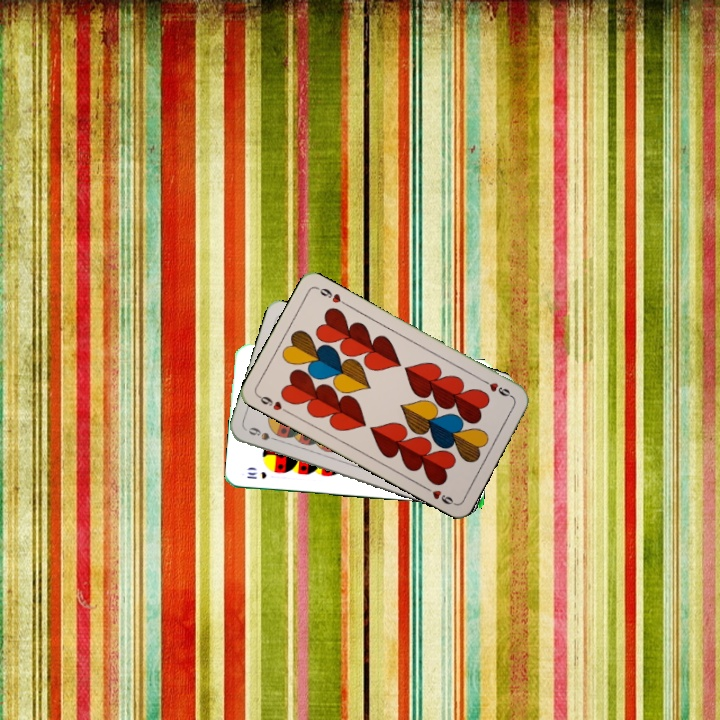H9: (254, 391, 291, 416), (478, 375, 515, 400)
S10: (243, 468, 269, 481)
S9: (244, 423, 283, 444)
